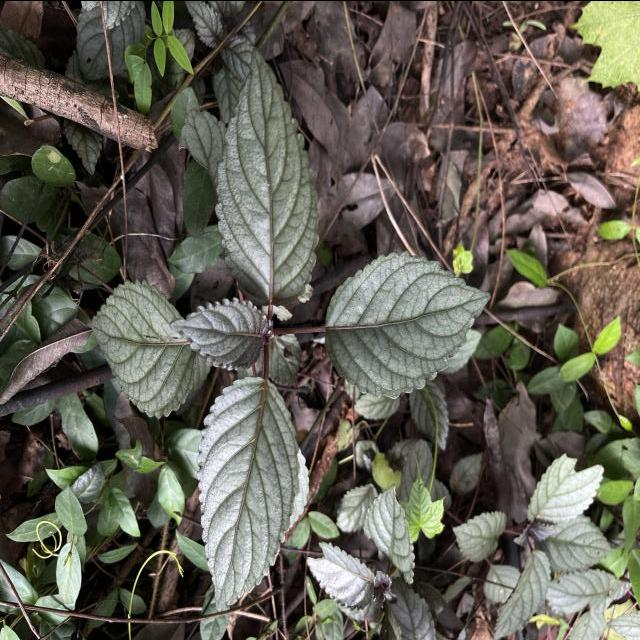Hemigraphis colorata: (213, 42, 323, 309), (322, 246, 496, 400), (194, 372, 304, 614), (88, 275, 198, 421), (167, 293, 270, 374), (525, 449, 608, 534), (360, 479, 420, 587), (304, 538, 377, 618), (492, 548, 554, 640), (450, 508, 510, 566)
